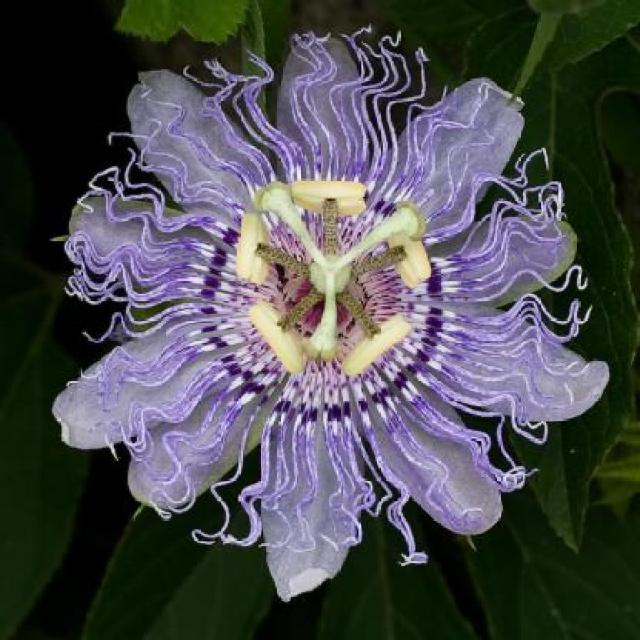flower: (46, 19, 608, 596)
